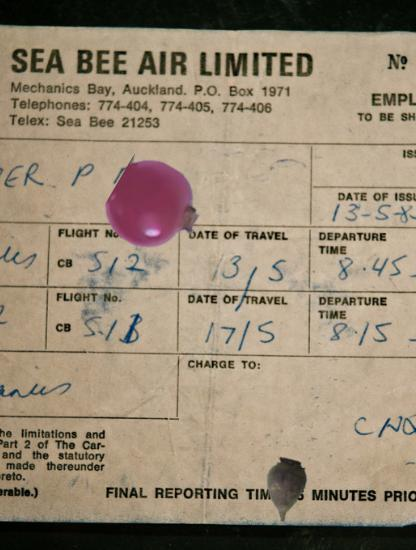Beetroot: (251, 457, 318, 524)
Redcurrant: (110, 163, 200, 253)
